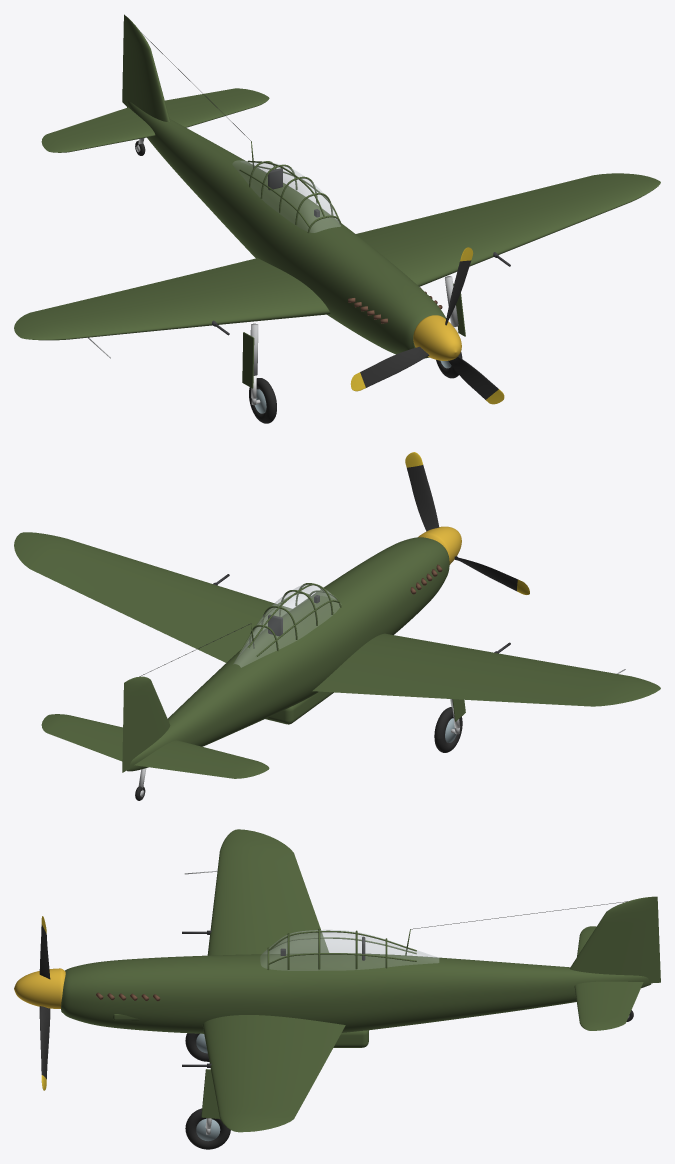
Rendered from fighter_t1.glb.
The picture shows the model from 3 angles, top to bottom: view 1: azimuth 30°, elevation 25°; view 2: azimuth 150°, elevation 25°; view 3: azimuth 270°, elevation 25°; orthographic projection. The views are drawn at different scales.
Parts seen in each view (by area): view 1: Wing, Fuselage, HStab, Canopy, PropBlades, VFin, Spinner, MainTire.001, GearDoor.001; view 2: Wing, Fuselage, HStab, Canopy, VFin, PropBlades, Radiator, Spinner, MainTire.001; view 3: Fuselage, Wing, VFin, Canopy, HStab, Spinner, PropBlades, MainTire, GearDoor, Radiator.
Boxes of the visible parts, box(x1,y1,x2,y2) form: Wing: box(14, 173, 660, 340); Fuselage: box(127, 101, 446, 358); HStab: box(41, 88, 269, 152); Canopy: box(233, 160, 340, 232); PropBlades: box(350, 247, 504, 404); VFin: box(122, 14, 170, 122); Spinner: box(413, 315, 461, 360); MainTire.001: box(249, 378, 276, 423); GearDoor.001: box(242, 332, 254, 388); Wing: box(14, 532, 660, 706); Fuselage: box(127, 537, 449, 771); HStab: box(41, 714, 269, 778); Canopy: box(233, 584, 339, 667); VFin: box(122, 676, 170, 772); PropBlades: box(405, 452, 529, 594); Radiator: box(265, 691, 333, 724); Spinner: box(418, 526, 461, 564); MainTire.001: box(434, 707, 462, 752); Fuselage: box(61, 953, 651, 1033); Wing: box(202, 829, 345, 1132); VFin: box(569, 896, 660, 983); Canopy: box(260, 930, 438, 970); HStab: box(574, 926, 643, 1030); Spinner: box(14, 968, 65, 1008); PropBlades: box(39, 916, 50, 1090); MainTire: box(185, 1108, 230, 1149); GearDoor: box(201, 1069, 219, 1119); Radiator: box(333, 1030, 368, 1047).
Bounding box in the file's own units: 10.7 × 3.44 × 9.66.
